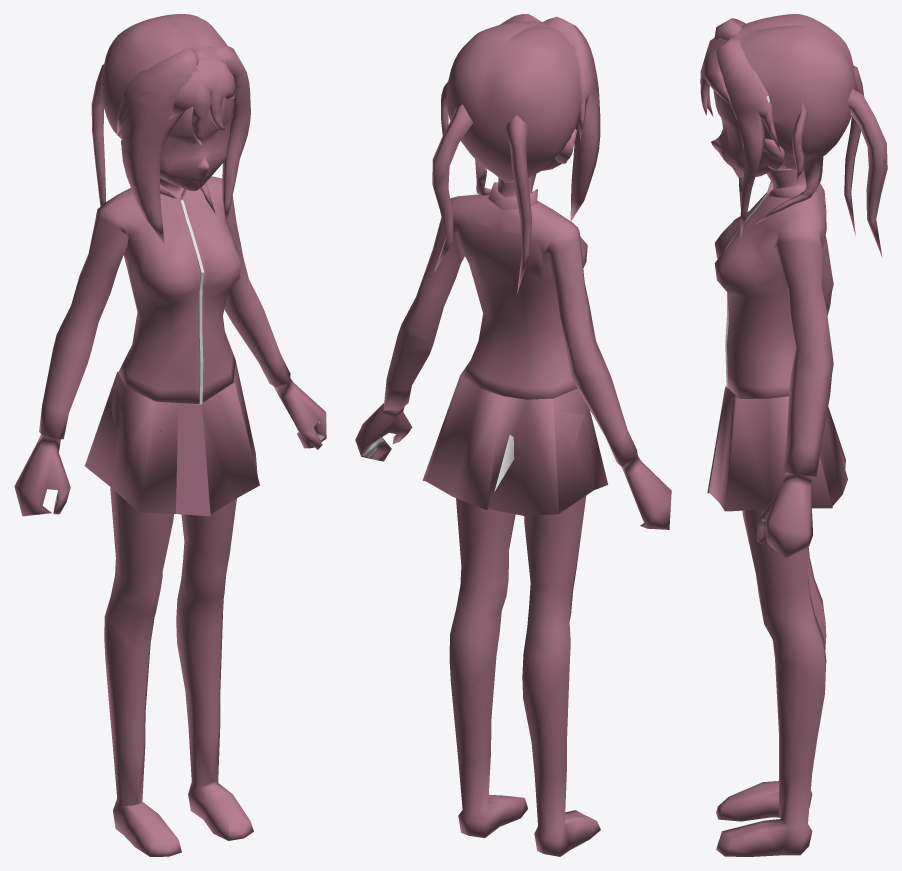
3 views of the same model, side by side, from view 1: azimuth 30°, elevation 25°; view 2: azimuth 150°, elevation 25°; view 3: azimuth 270°, elevation 25° (orthographic).
Parts seen in each view (by area): view 1: Cuerpo, export.001, Cuerpo.001, Cabeza.001, Cube; view 2: Cuerpo, export.001, Cuerpo.001; view 3: Cuerpo, export.001, Cuerpo.001, Cabeza.001.
Boxes of the visible parts, bbox=[...] form: Cuerpo: bbox=[14, 176, 326, 856]; export.001: bbox=[91, 14, 250, 244]; Cuerpo.001: bbox=[85, 361, 259, 516]; Cabeza.001: bbox=[121, 97, 233, 191]; Cube: bbox=[180, 200, 204, 404]; Cuerpo: bbox=[355, 174, 671, 856]; export.001: bbox=[432, 14, 600, 293]; Cuerpo.001: bbox=[422, 361, 608, 515]; Cuerpo: bbox=[714, 169, 833, 856]; export.001: bbox=[700, 14, 887, 256]; Cuerpo.001: bbox=[707, 385, 847, 511]; Cabeza.001: bbox=[711, 91, 803, 177].
Bounding box in the file's own units: 2.64 × 6.6 × 1.39.
